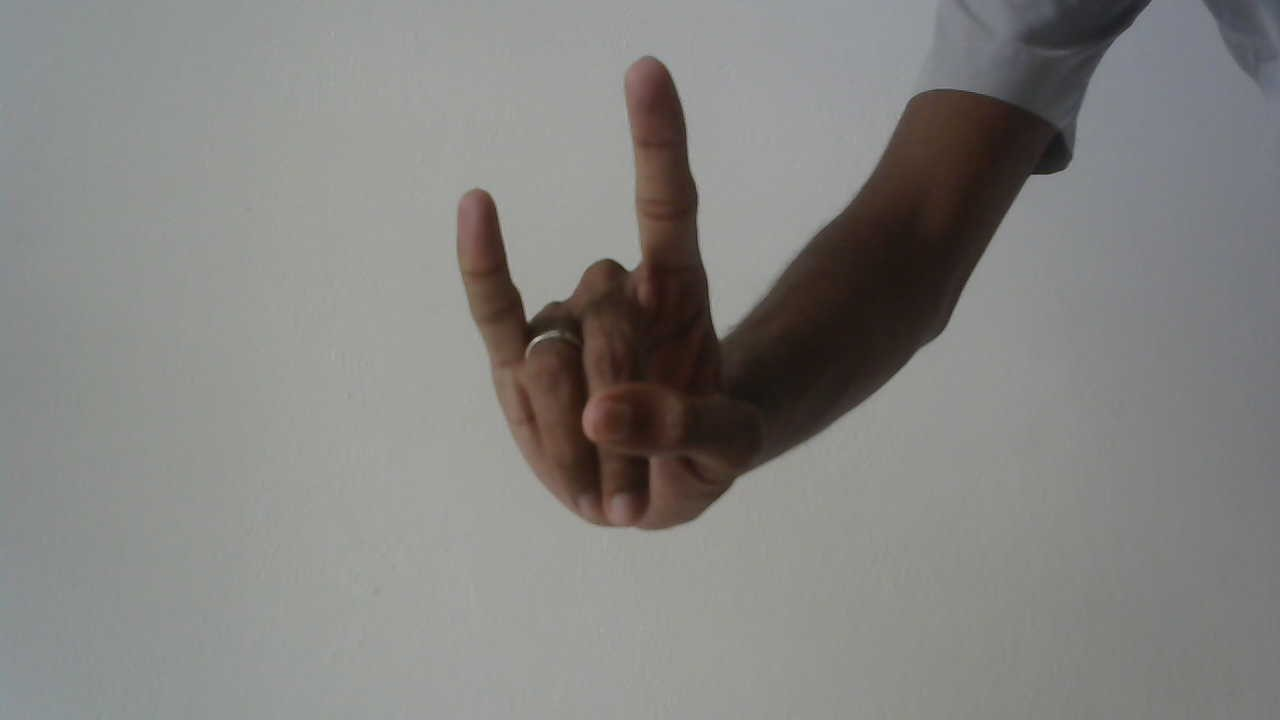iloveyou: (445, 44, 784, 542)
